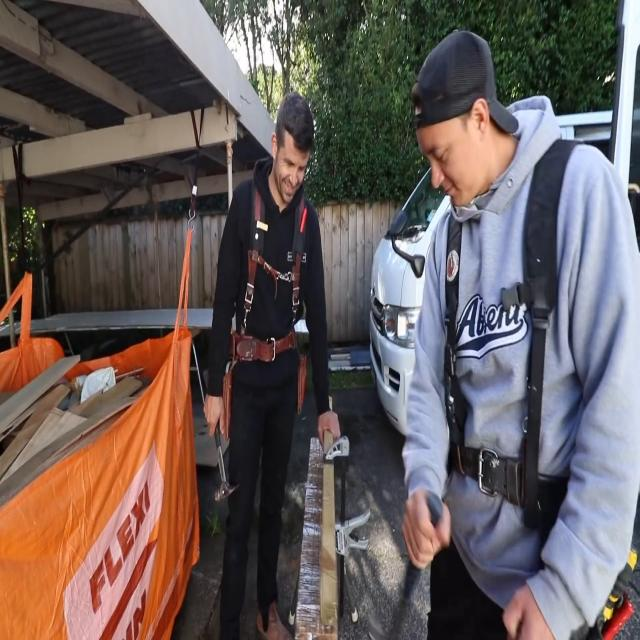hammer: (214, 426, 239, 498)
